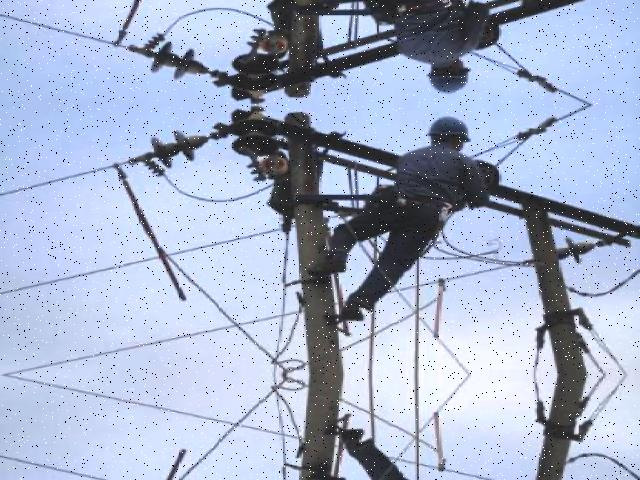Helmet: (423, 113, 477, 147)
